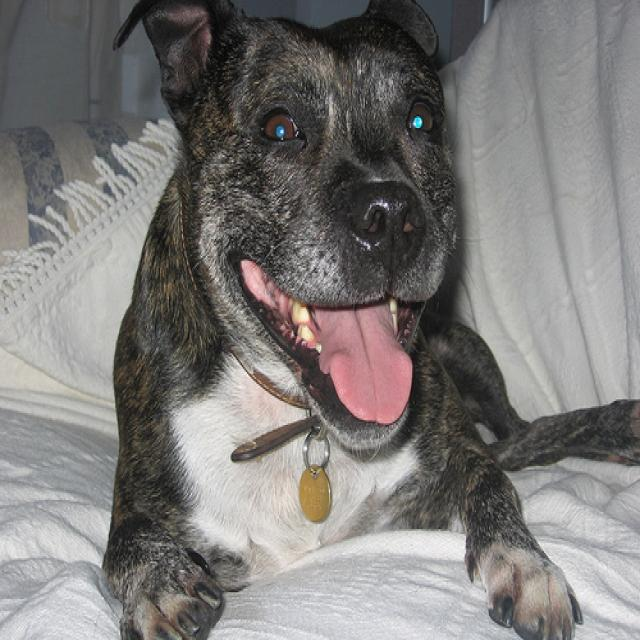dog-staffordshire_bull_terrier: (93, 2, 637, 637)
